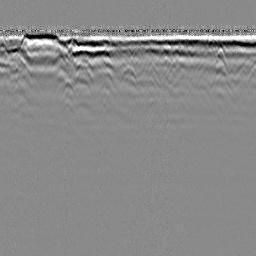cavity: (119, 64, 138, 84)
